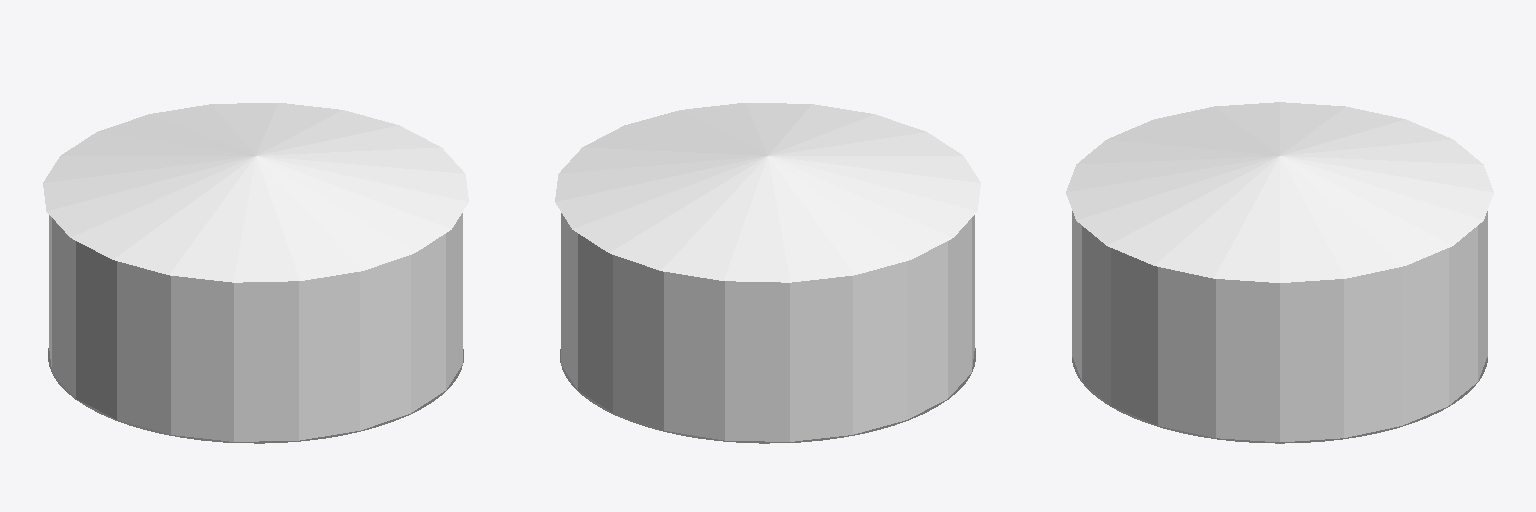
The model's file is Arena.obj.
3 views of the same model, side by side, from view 1: azimuth 30°, elevation 25°; view 2: azimuth 150°, elevation 25°; view 3: azimuth 270°, elevation 25° (orthographic).
Visible parts, largest first — view 1: Arena; view 2: Arena; view 3: Arena.
Part boxes in pixels (left/top/right/bottom): Arena: left=43, top=103, right=468, bottom=443; Arena: left=555, top=103, right=980, bottom=443; Arena: left=1066, top=102, right=1493, bottom=443.
Bounding box in the file's own units: 36 × 18.56 × 36.